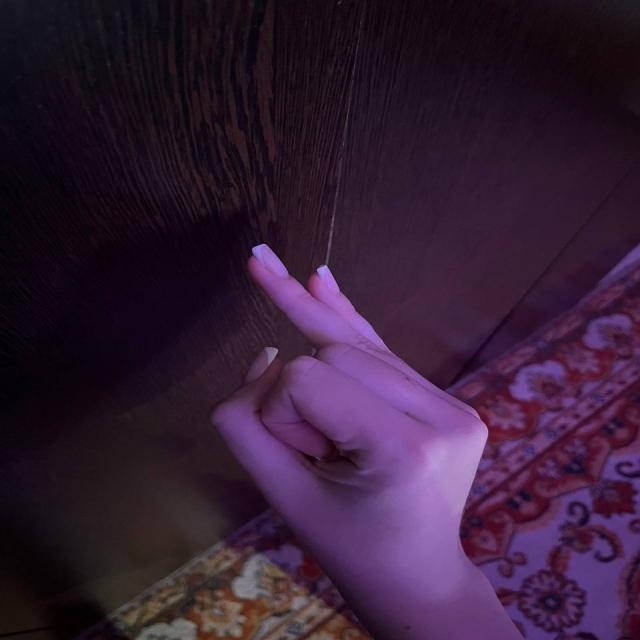i-: (204, 230, 509, 573)
